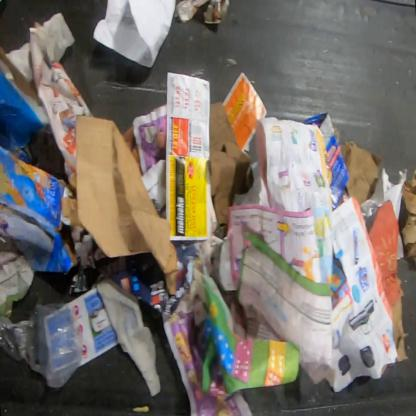cardboard: (60, 115, 179, 296), (0, 130, 81, 276), (0, 9, 77, 149), (368, 198, 410, 363), (209, 100, 254, 224), (303, 112, 351, 212), (340, 139, 382, 206), (399, 164, 416, 268)
soft_plastic: (0, 300, 84, 389)
